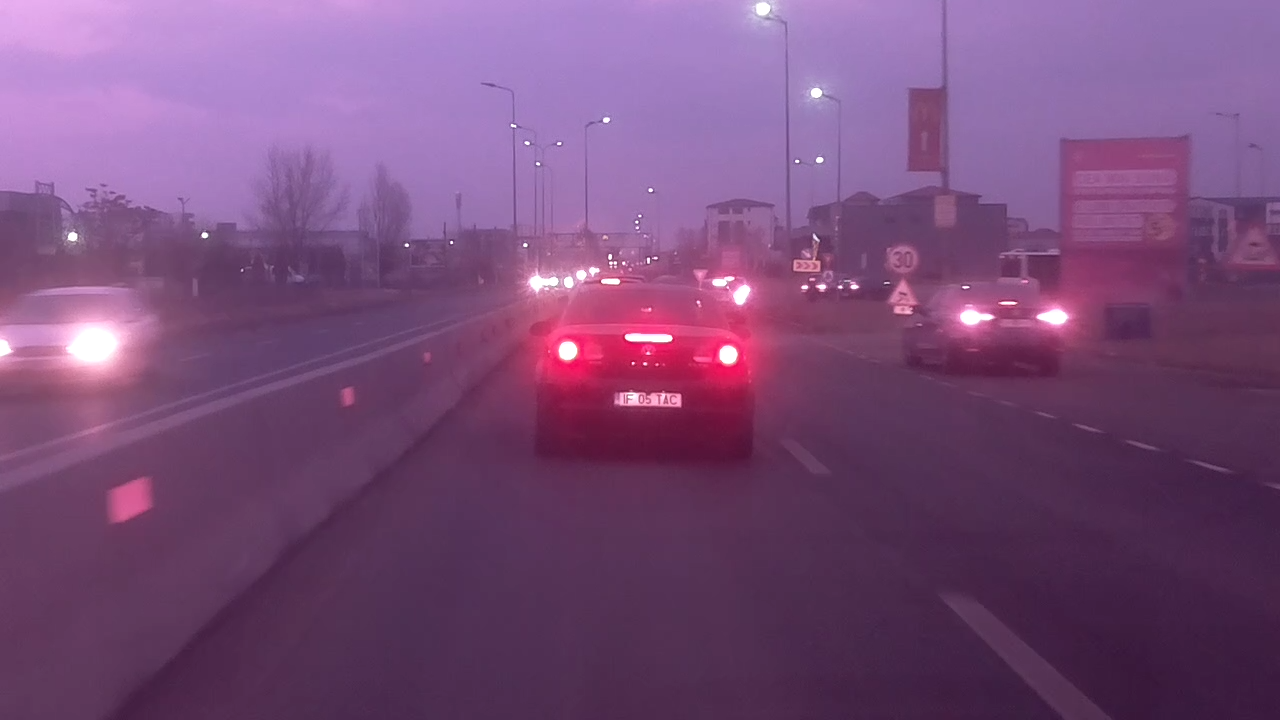license-plate: (611, 389, 685, 410)
